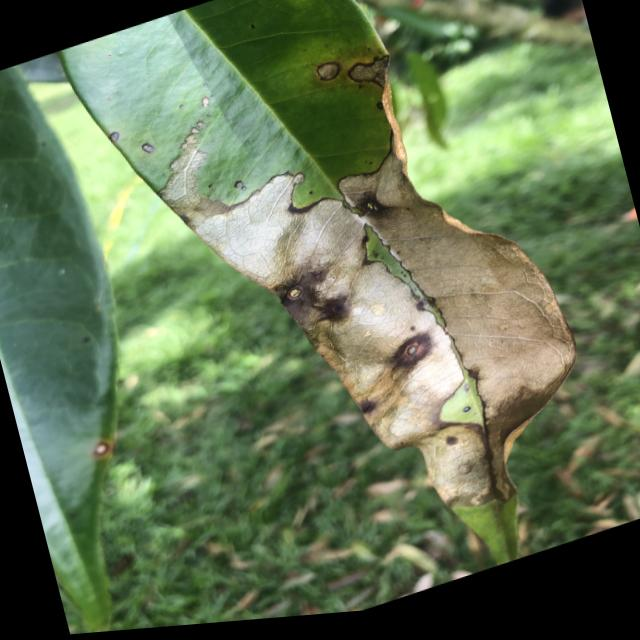Leaf Blight: (116, 18, 640, 633), (310, 26, 416, 119)
